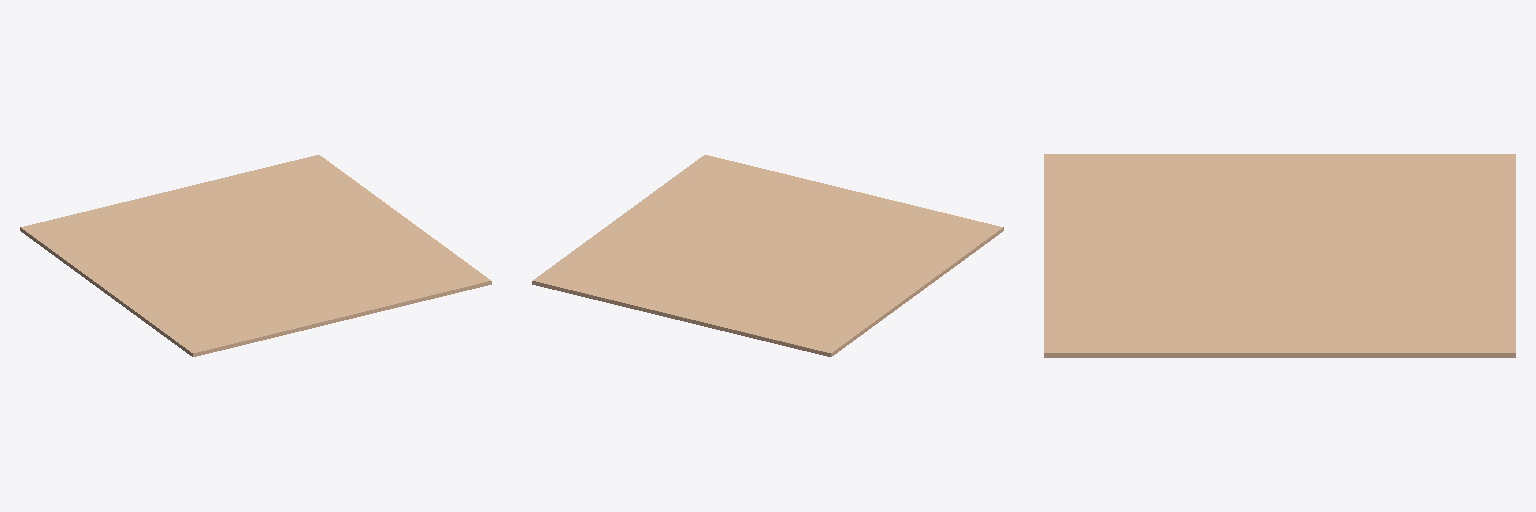
URDF robot description (flat_terrain):
<?xml version="1.0"?>
<robot name="flat_terrain">
  <link name="base_link">
    <visual>
      <origin xyz="0 0 0.005" rpy="0 0 0" />
      <geometry>
        <box size="0.8 0.8 0.01" />
      </geometry>
      <material name="desert sand">
        <color rgba="0.9297 0.7930 0.6758 1" />
      </material>
    </visual>
    <collision>
      <origin xyz="0 0 0.005" rpy="0 0 0" />
      <geometry>
        <box size="0.8 0.8 0.01" />
      </geometry>
    </collision>
  </link>
</robot>

--- Facts derived from the render (not from the file) ---
Views: 3 orthographic renders of the robot side by side, from view 1: azimuth 30°, elevation 25°; view 2: azimuth 150°, elevation 25°; view 3: azimuth 270°, elevation 25°.
Model flat_terrain with 1 links and 0 joints (none), rooted at base_link, posed all joints at 0.
Links seen in each view (by area): view 1: base_link; view 2: base_link; view 3: base_link.
Boxes of the visible links, x1,y1,x2,y2 form: base_link: (20, 155, 491, 356); base_link: (532, 155, 1003, 356); base_link: (1044, 154, 1515, 357).
Size in the robot's own frame: 0.8 by 0.8 by 0.01 metres.
Geometry: primitives only (box / cylinder / sphere), no mesh files.